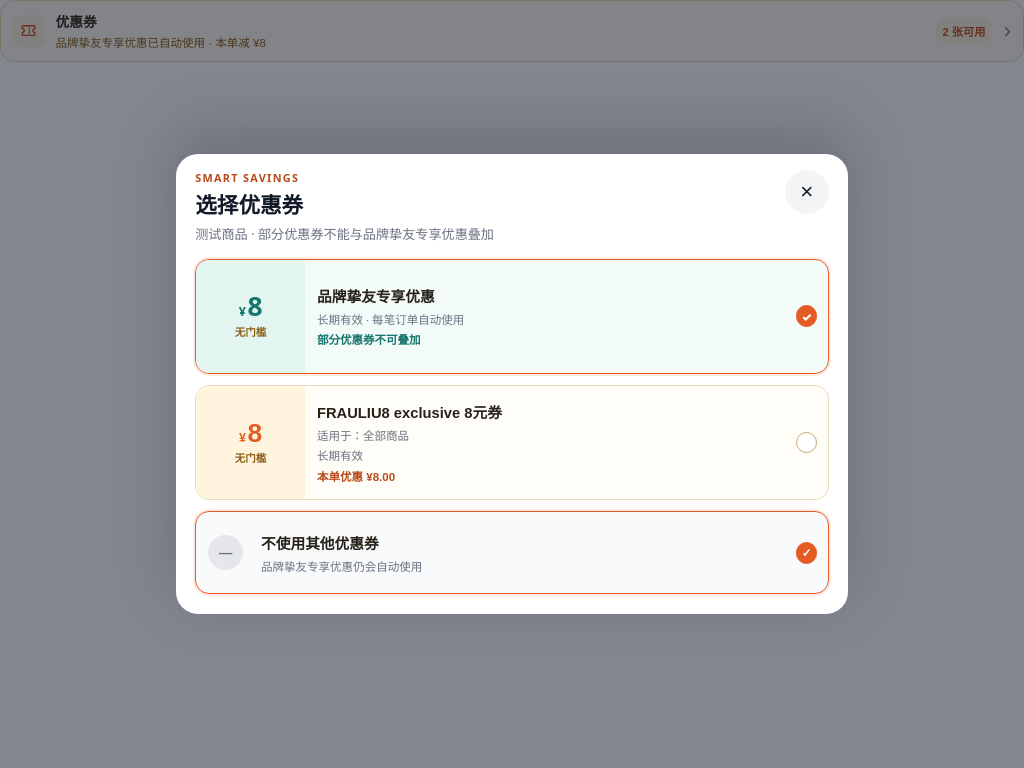
it: CheckoutCouponSelector › explains that switching to an equally priced exclusive coupon leaves payment unchanged
The width and height of the screenshot is (1024, 768).
Click the button "¥8 无门槛 FRAULIU8 exclusive 8元券 适用于：全部商品 长期有效 本单优惠 ¥8.00" at [251, 442], box [195, 385, 829, 500]
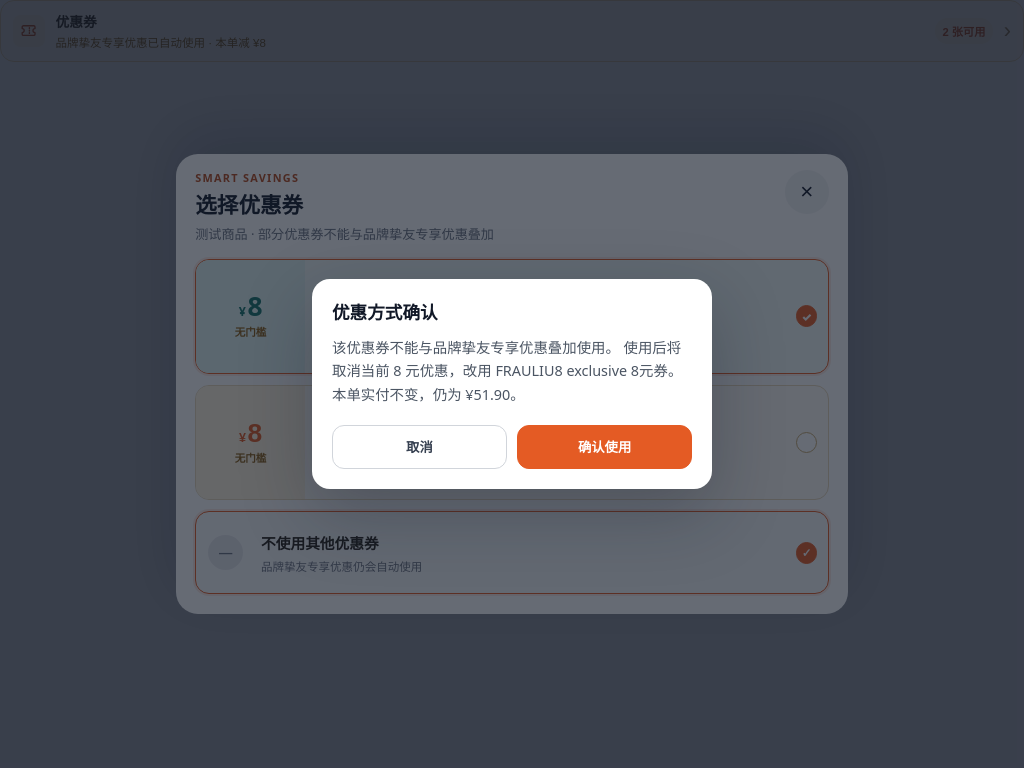
Expected: the dialog "优惠方式确认" does not show "比当前价格高 ¥0", [312, 280, 712, 489]
Expected: the dialog "优惠方式确认" shows "改用 FRAULIU8 exclusive 8元券", [312, 280, 712, 489]
Expected: the dialog "优惠方式确认" shows "实付不变，仍为 ¥51.90", [312, 280, 712, 489]
